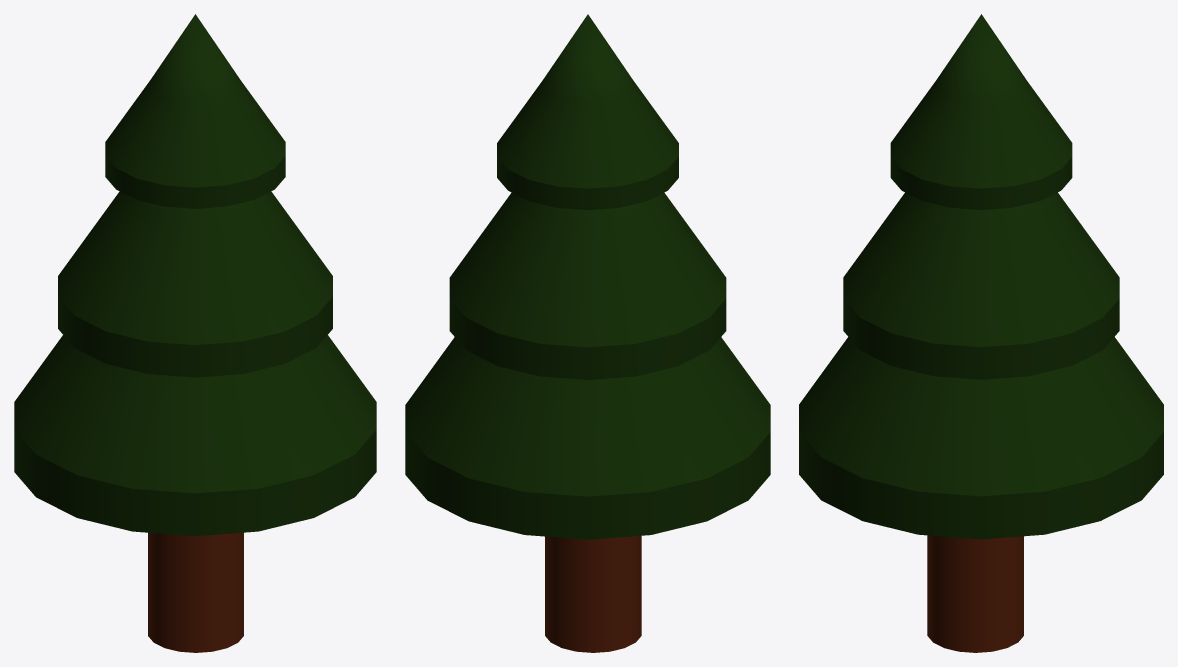
Rendered from Tree 1.fbx.
3 views of the same model, side by side, from view 1: azimuth 30°, elevation 25°; view 2: azimuth 150°, elevation 25°; view 3: azimuth 270°, elevation 25° (orthographic).
Visible parts, largest first — view 1: Cylinder003, Cylinder002; view 2: Cylinder003, Cylinder002; view 3: Cylinder003, Cylinder002.
Boxes of the visible parts, x1,y1,x2,y2 form: Cylinder003: [14, 14, 376, 536]; Cylinder002: [148, 532, 243, 652]; Cylinder003: [405, 14, 770, 539]; Cylinder002: [545, 535, 641, 652]; Cylinder003: [799, 14, 1163, 539]; Cylinder002: [927, 535, 1023, 652].
Size of the model in its own units: 16.09 by 29.68 by 15.84.
